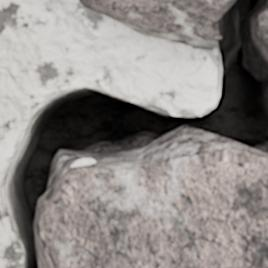brick: (35, 138, 267, 267)
broken_brick: (77, 0, 233, 50), (260, 11, 267, 37)
crack: (1, 0, 267, 267)
